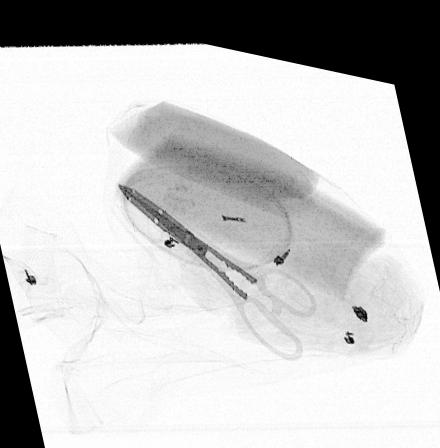Scissors: (114, 177, 316, 347)
